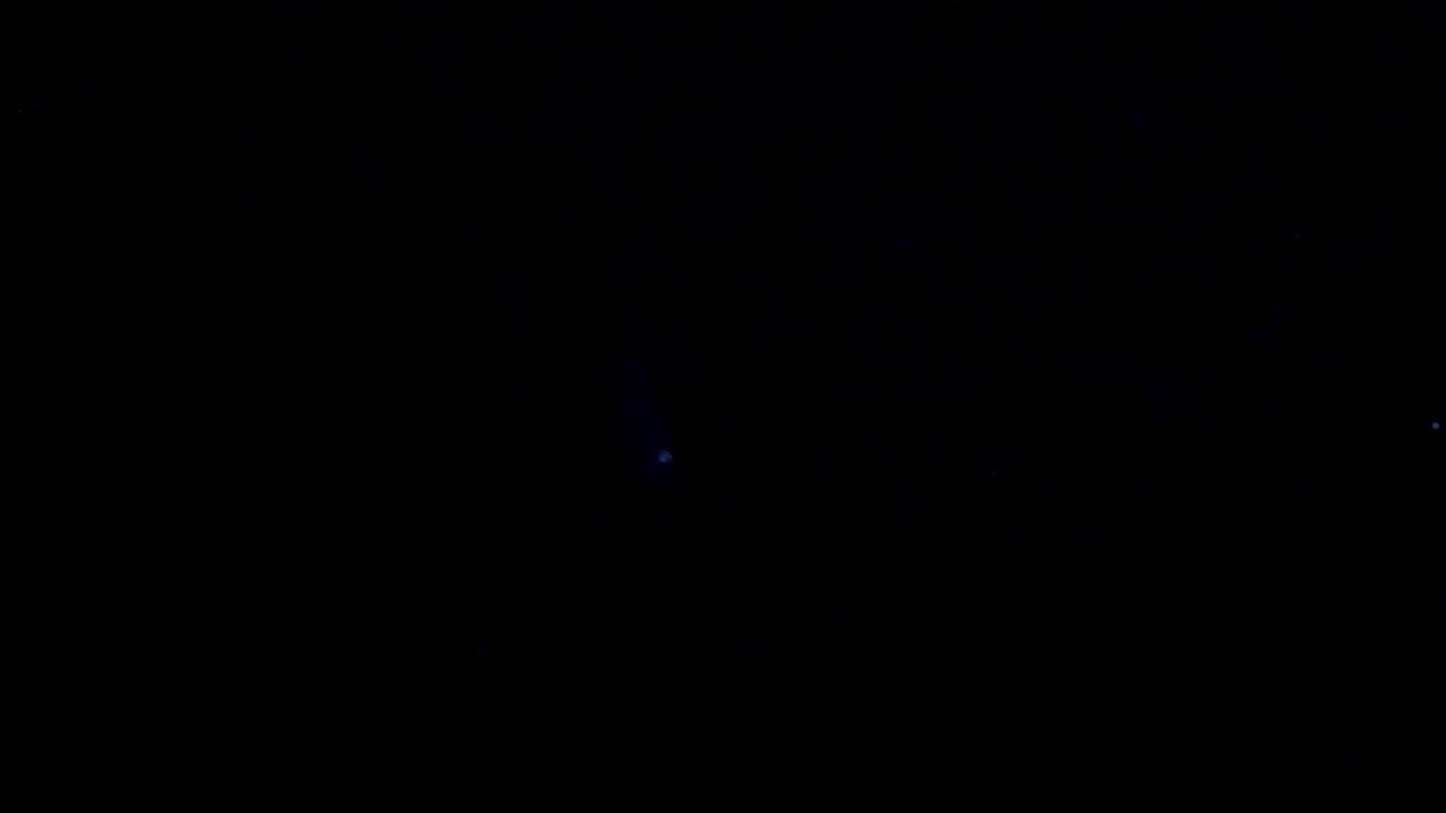organism: (621, 351, 676, 487)
